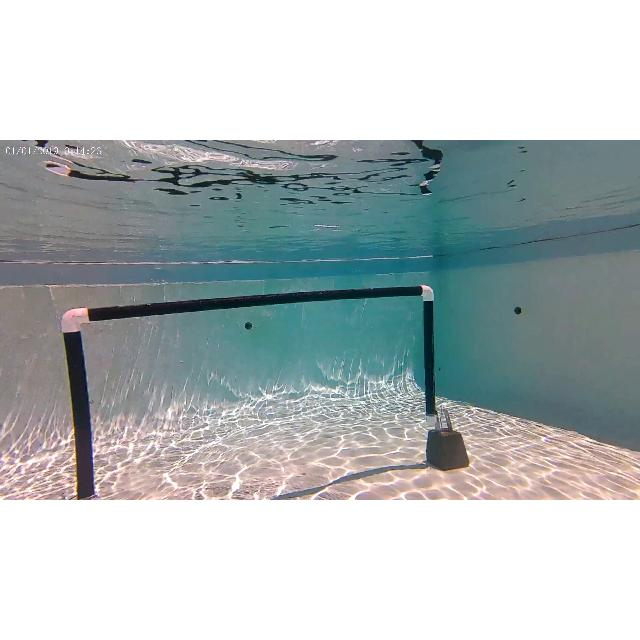prequal gate: (58, 284, 436, 500)
prequal gate leg l: (56, 306, 100, 499)
prequal gate leg r: (417, 284, 468, 470)
